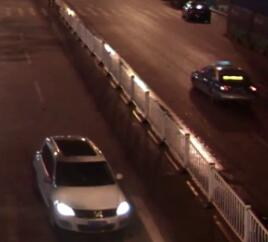car: (28, 131, 135, 236), (187, 59, 261, 108), (179, 1, 213, 21)
